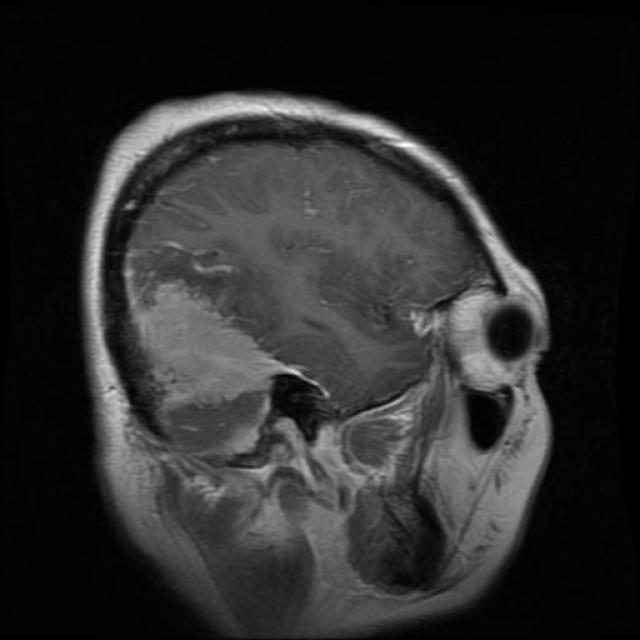meningioma: (139, 295, 292, 408)
